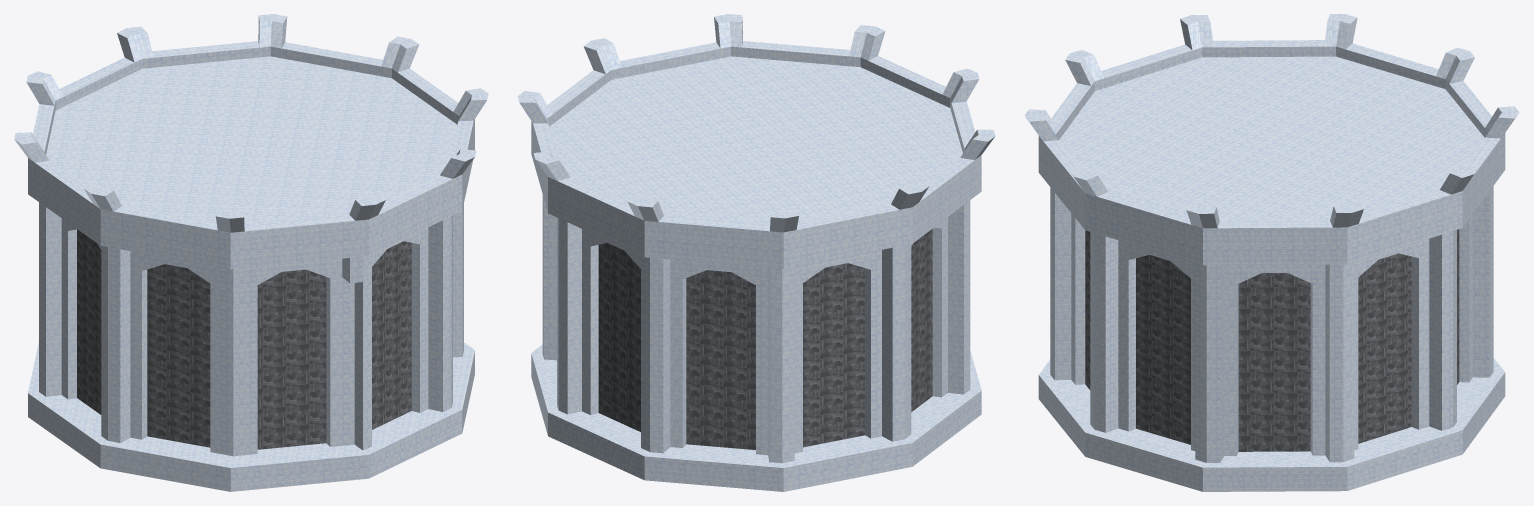
File: EndBuilding.fbx
3 renders of one model, left to right at view 1: azimuth 30°, elevation 25°; view 2: azimuth 150°, elevation 25°; view 3: azimuth 270°, elevation 25°, orthographic.
Visible parts, largest first — view 1: Cylinder__19_.017; view 2: Cylinder__19_.017; view 3: Cylinder__19_.017.
Boxes of the visible parts, <box> form: Cylinder__19_.017: <box>14,14,488,491</box>; Cylinder__19_.017: <box>517,14,995,491</box>; Cylinder__19_.017: <box>1024,14,1519,491</box>.
Size of the model in its own units: 2028 by 1343 by 2122.
